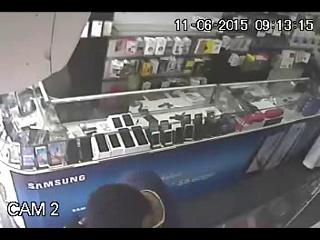Normal: (76, 183, 166, 229)
